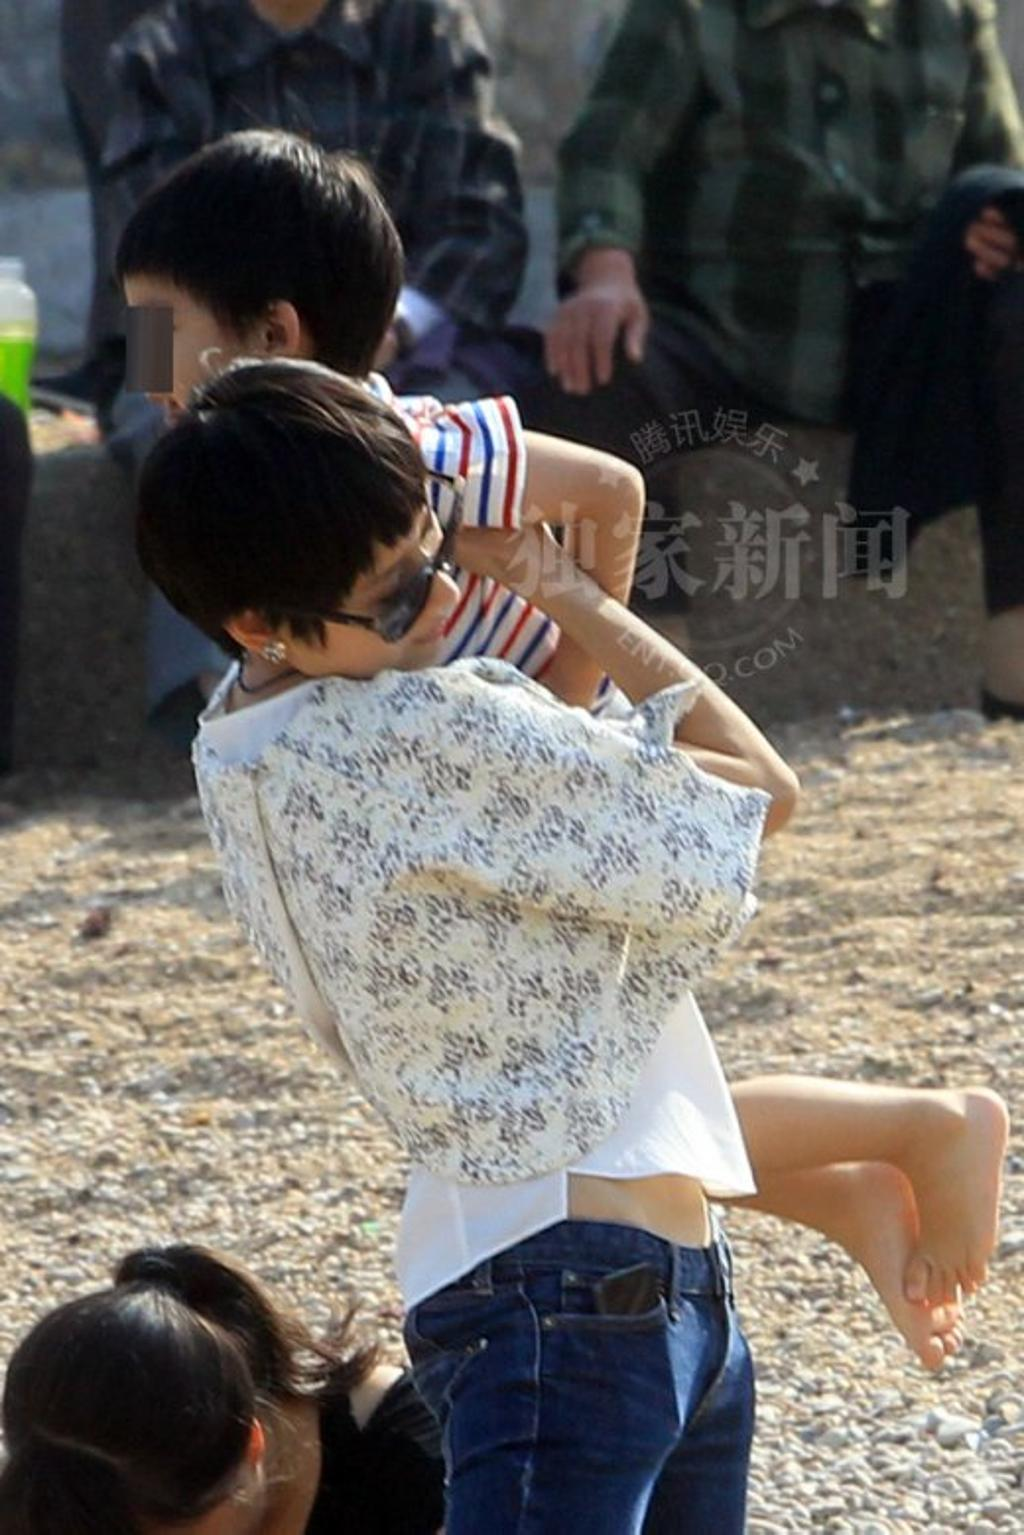face: (284, 470, 467, 674)
